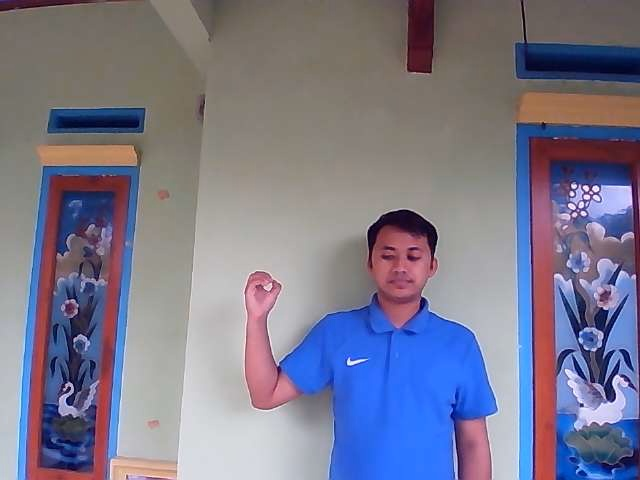O: (242, 269, 284, 318)
